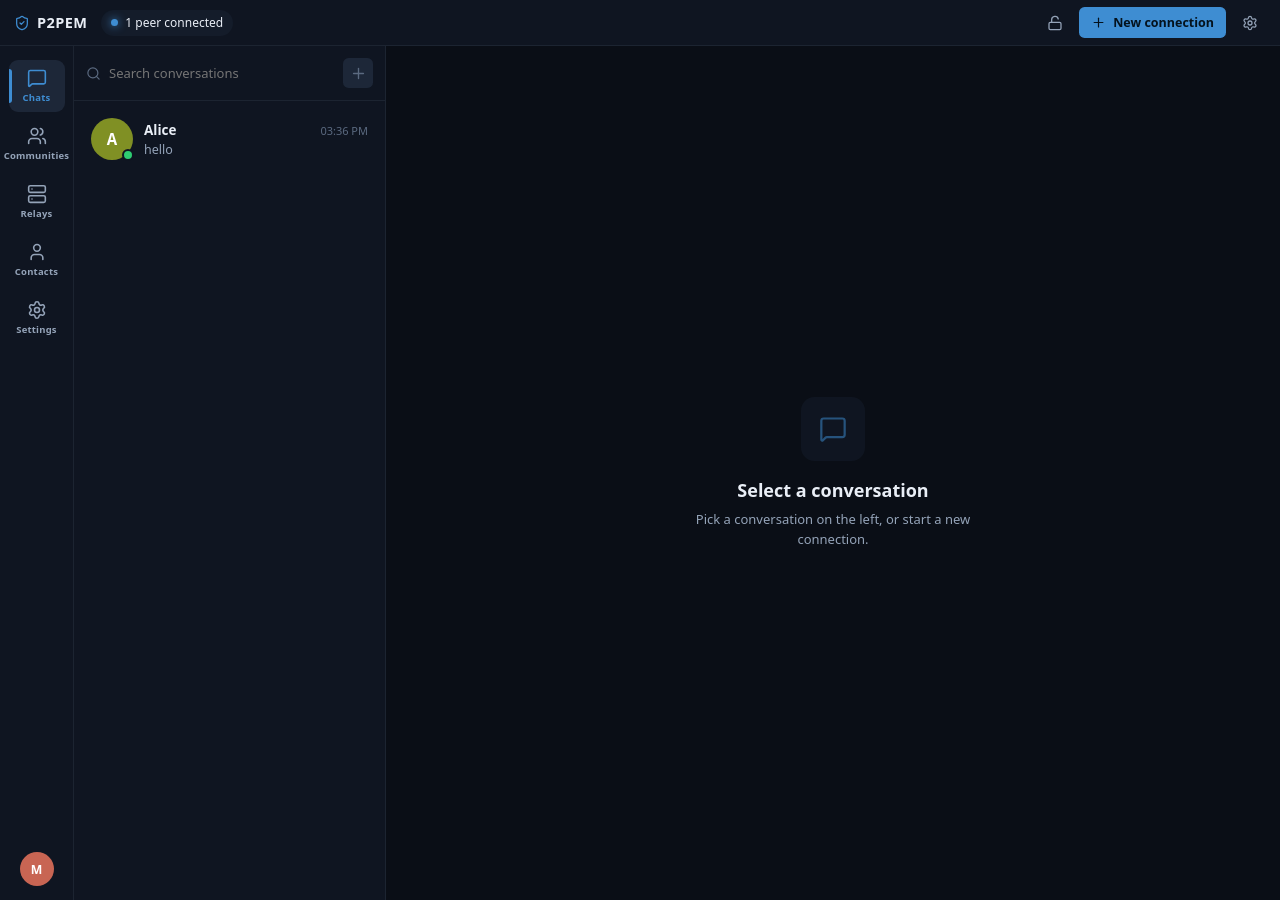
it: App — navigation › switches panes without losing the shell
Click the button "Settings" at (36,318), box 8,292 -> 64,344
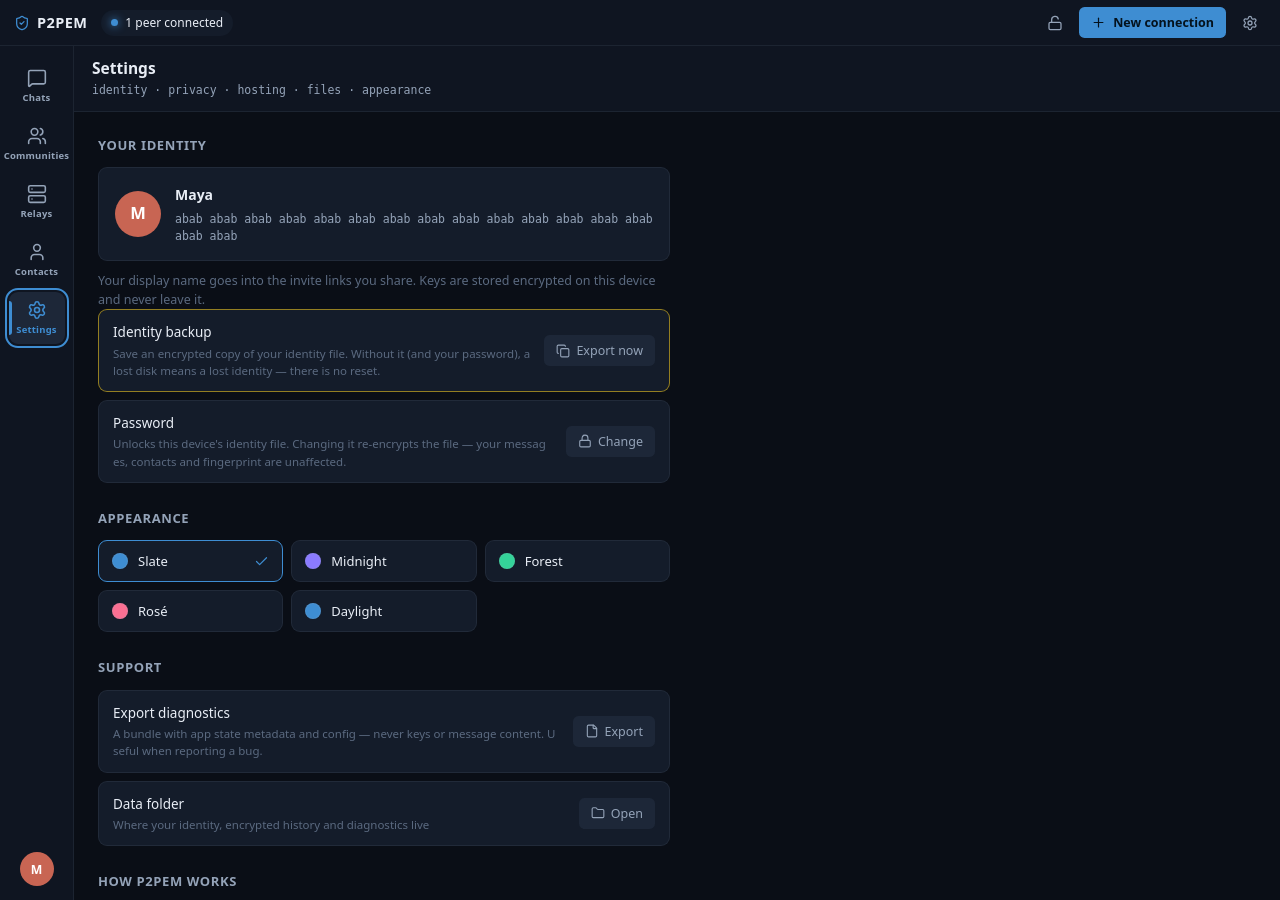
Expected: the navigation bar named "Primary" is shown, 0,46 -> 74,899
Expected: the text "identity · privacy · hosting · files · appearance" is shown, 92,82 -> 431,100
Click the button "Relays" at (36,202), box 8,176 -> 64,228
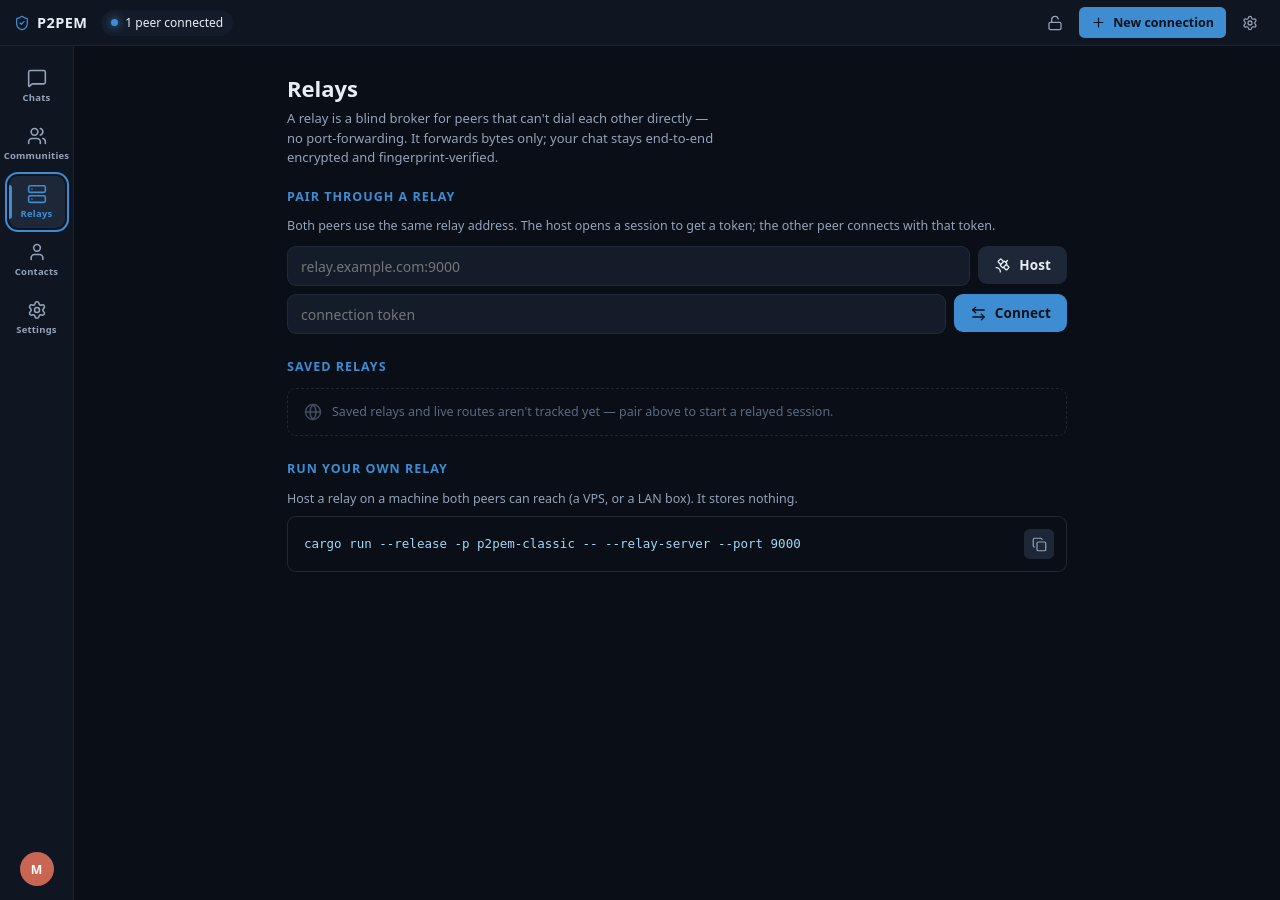
Expected: the text "blind broker" is shown, 287,109 -> 713,166
